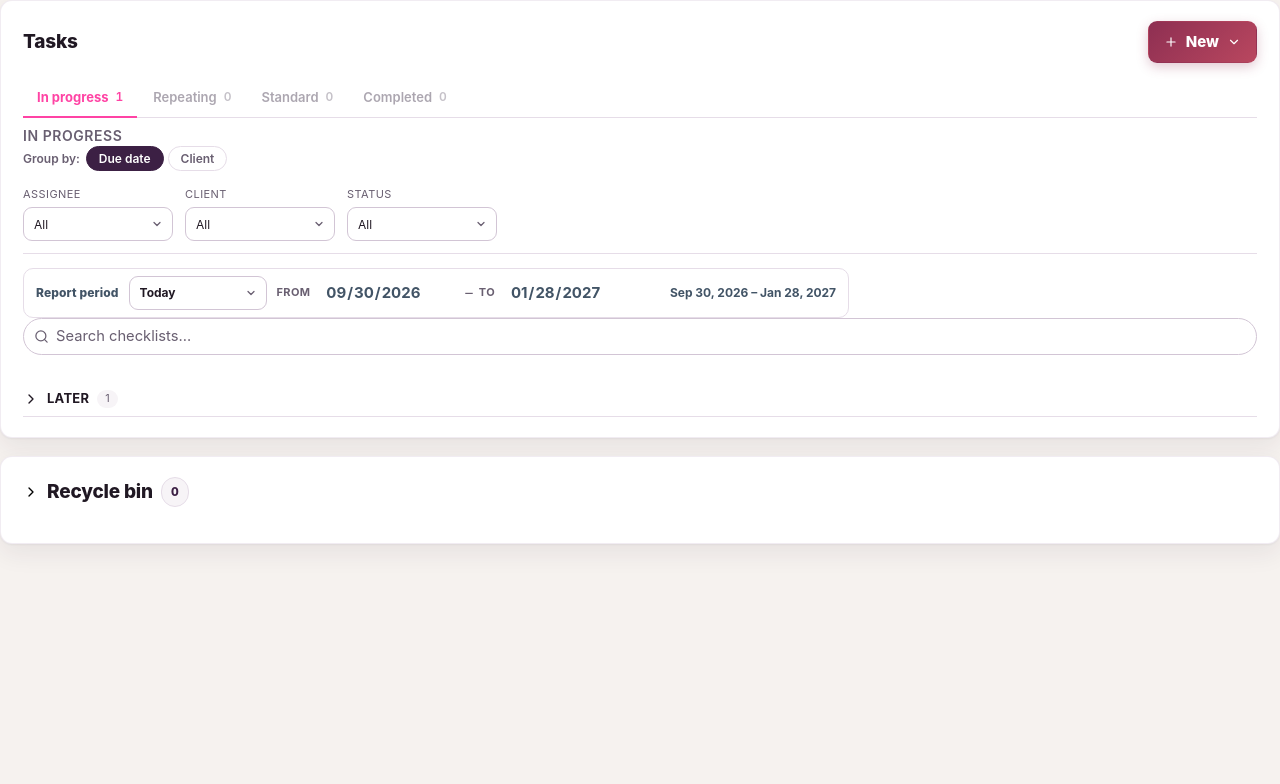
Scenario: Hide completed (N) › hides the done steps, says how many, and changes no data
This screenshot has width=1280, height=784.
Click the button "Later 1" at (68, 398), box 23,381 -> 1257,417
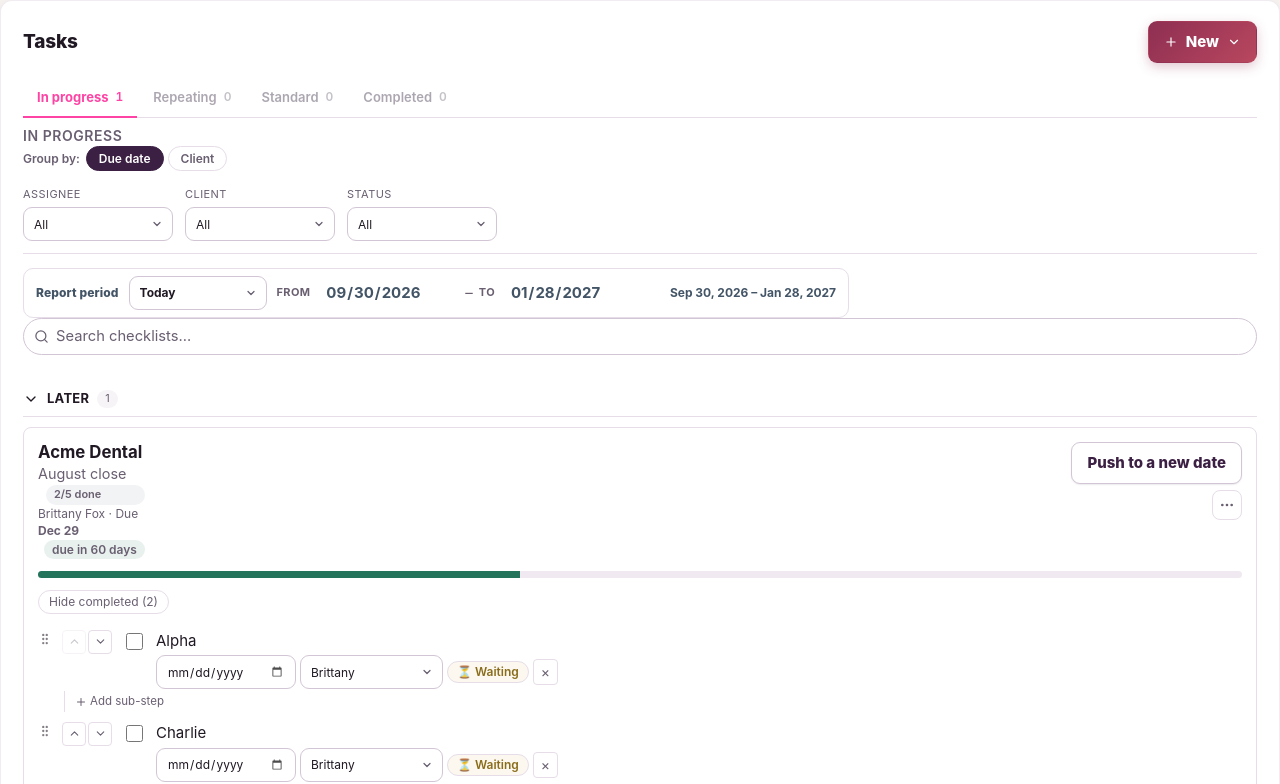
Click the button "Hide completed (2)" at (104, 602), box 38,590 -> 169,614
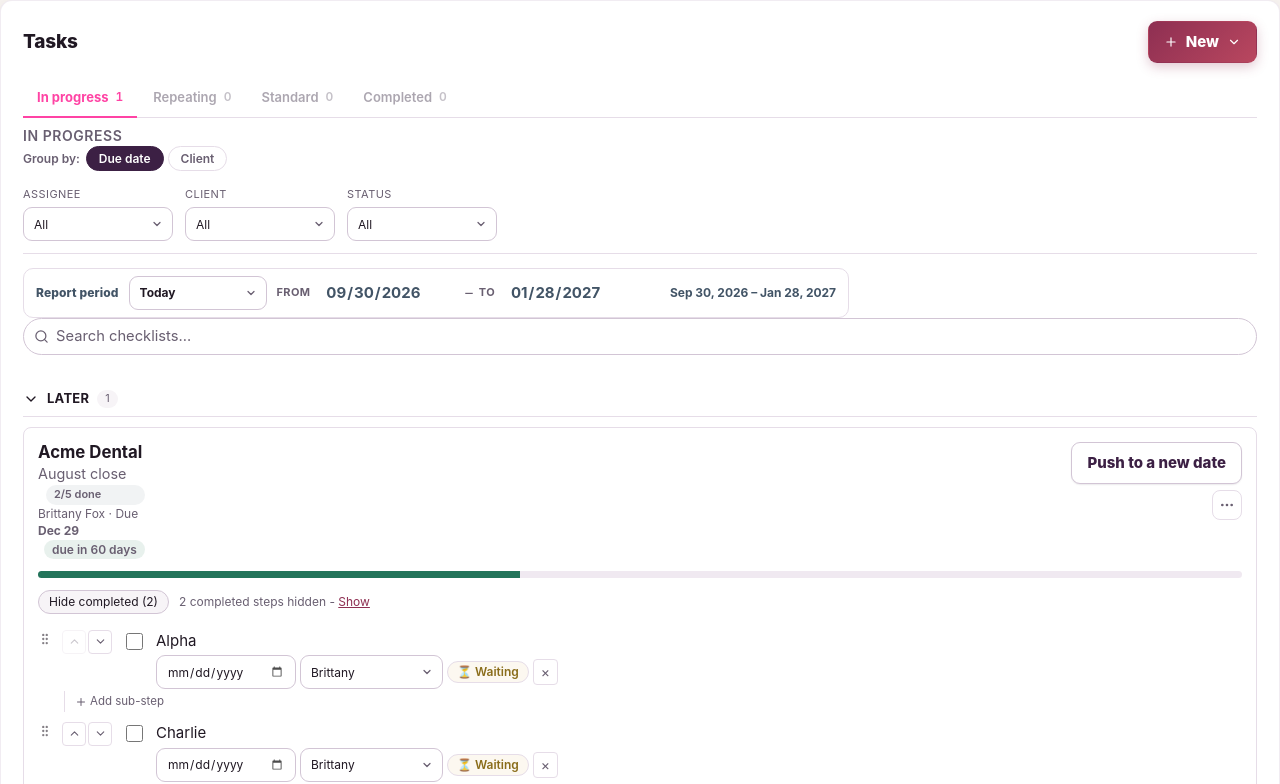
Expected: the text "2 completed steps hidden - Show" is shown, 179,593 -> 370,610
